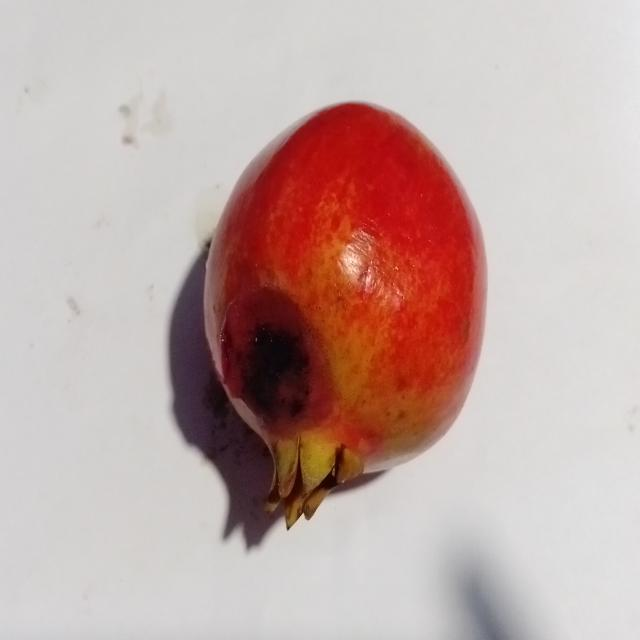Rotten: (197, 97, 491, 530)
